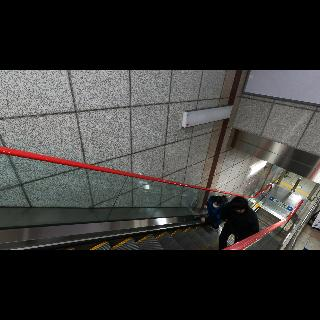anomaly: (205, 192, 229, 228)
normal: (220, 196, 262, 248)
